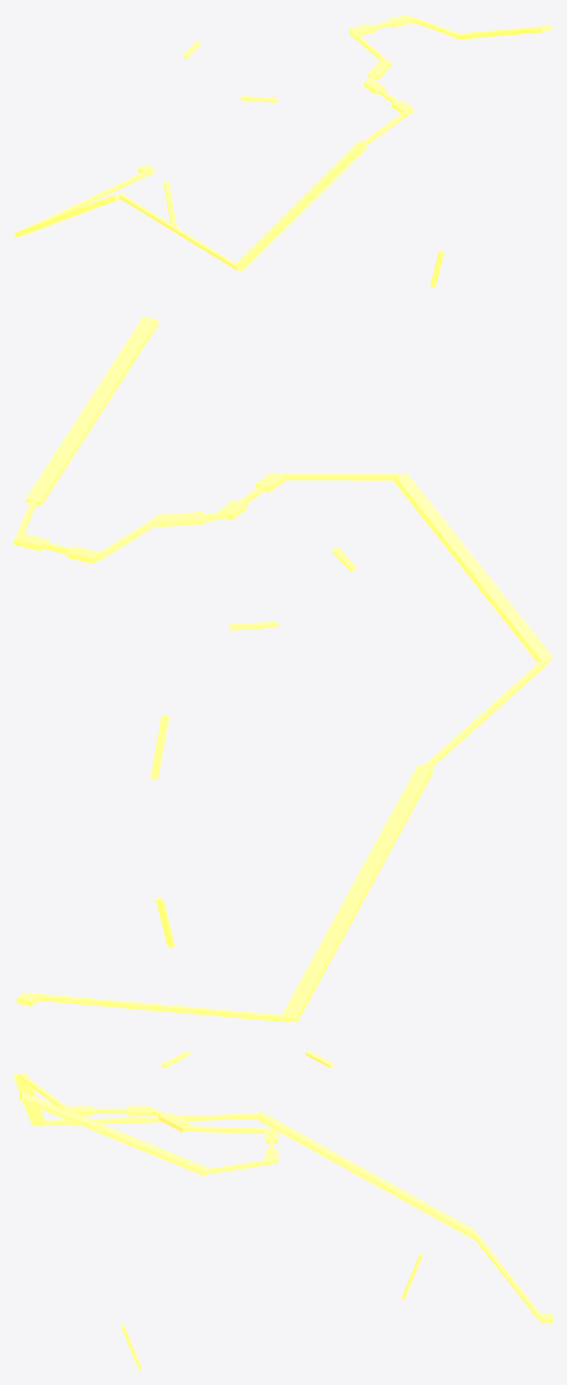
Rendered from hall_ov_route.glb.
3 renders of one model, top to bottom at view 1: azimuth 30°, elevation 25°; view 2: azimuth 150°, elevation 25°; view 3: azimuth 270°, elevation 25°, orthographic. The views are drawn at different scales.
Parts seen in each view (by area): view 1: hall_ov_route; view 2: hall_ov_route; view 3: hall_ov_route.
Part boxes in pixels (<box>): hall_ov_route: <box>14,14,552,287</box>; hall_ov_route: <box>14,316,552,1022</box>; hall_ov_route: <box>14,1051,552,1370</box>.
Bounding box in the file's own units: 33.6 × 28.39 × 45.08.
